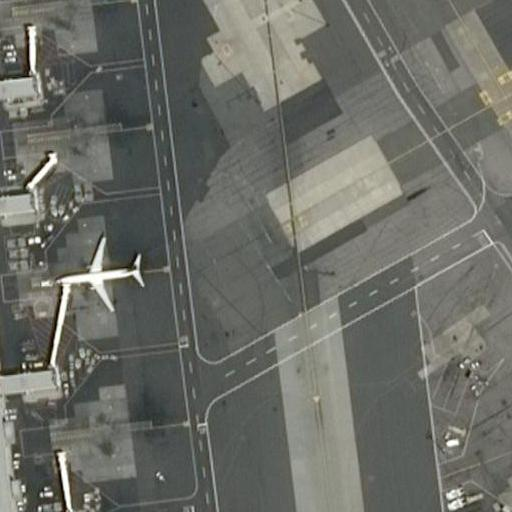Aircraft: (50, 232, 148, 314)
